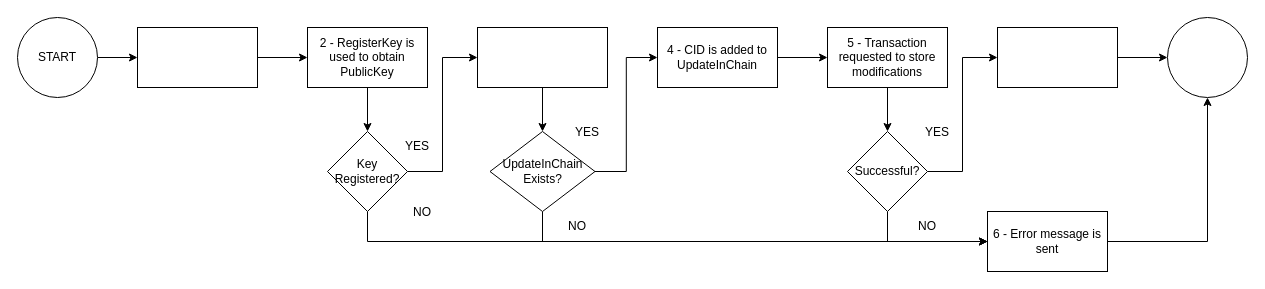
This 1265x289 diagram has some shape labels left out. Each missing label, with the box of its shape:
1 - Chaincode is called. Call contains an UpdatePetition: (136, 26, 258, 88)
3 - PublicKey, VersionID and ClassID are used to obtain UpdateInChain: (476, 26, 608, 88)
6 - Response is sent: (996, 26, 1118, 88)
END: (1166, 16, 1248, 98)
